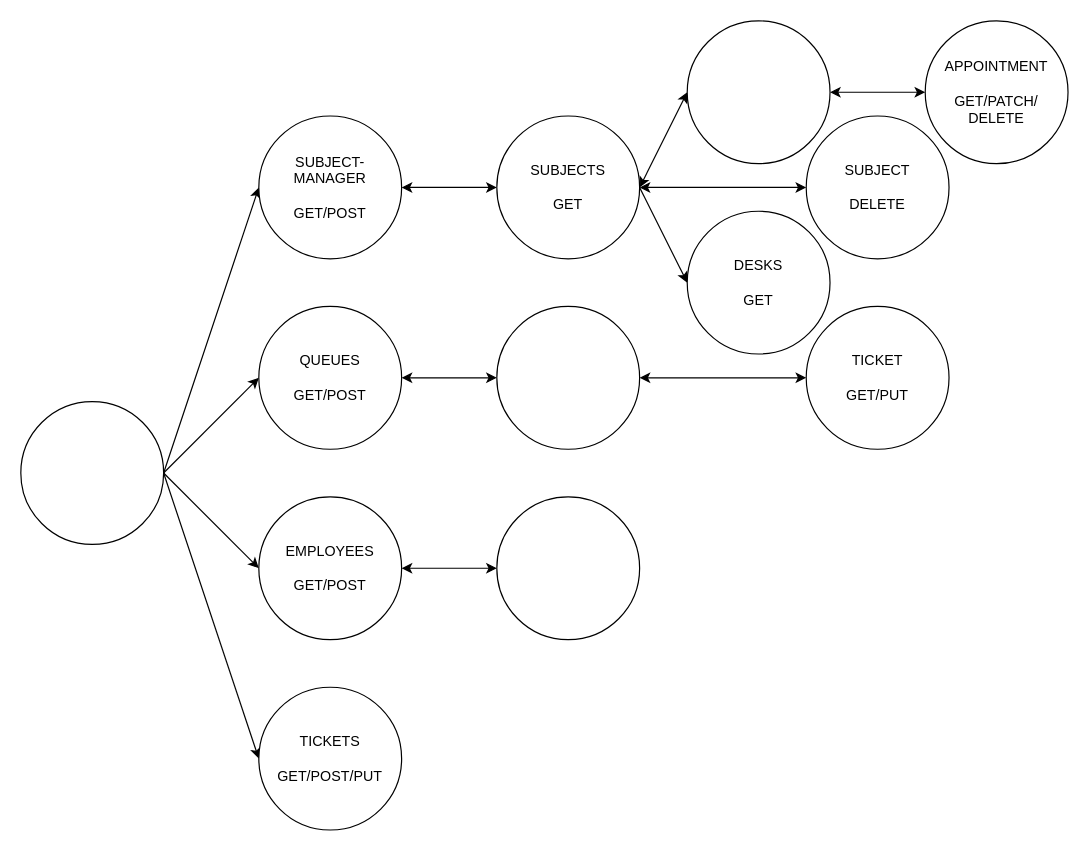
The diagram is 1089 pixels wide and 851 high, and some of its shapes have lost their labels. The shapes that lost their labels are listed below. From the top down, each one's centre as x and y in pixels, then its label:
At point 758,92: "APPOINTMENTS GET/POST".
At point 568,377: "QUEUE GET/PATCH/ DELETE".
At point 92,472: "HOME GET".
At point 568,568: "EMPLOYEE GET/PATCH/ DELETE".
